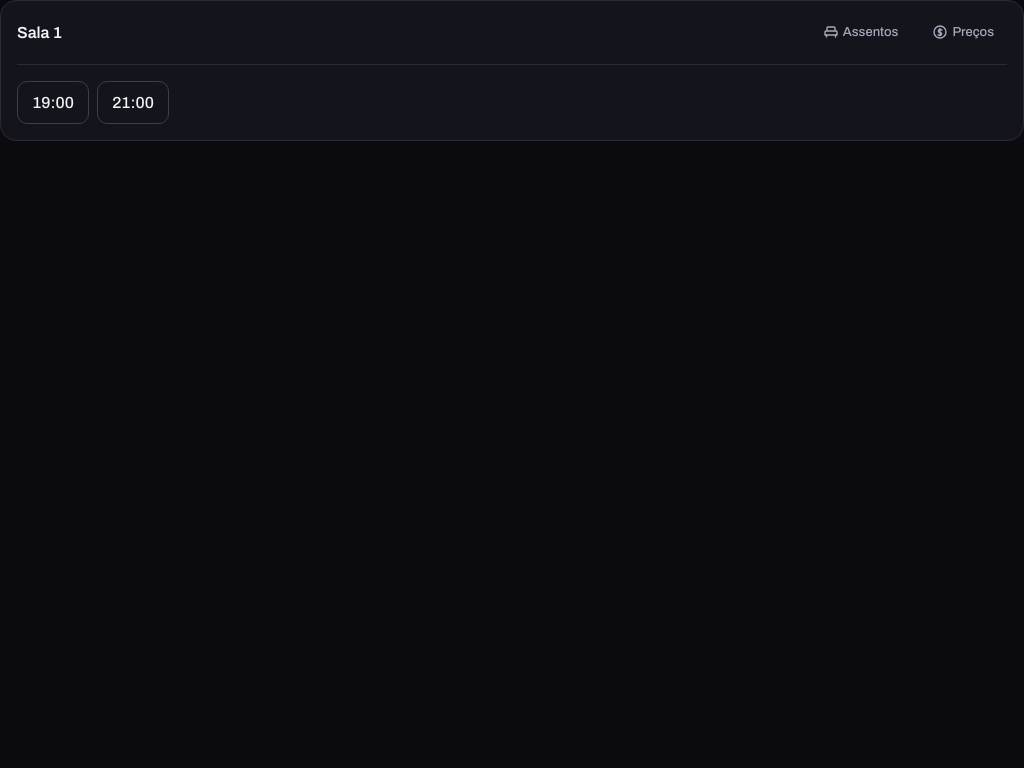
it: painel de assentos › A4 — sessão esgotada não oferece o caminho, e diz por quê
Click the button "Assentos".
click(861, 32)  # box [810, 17, 912, 48]
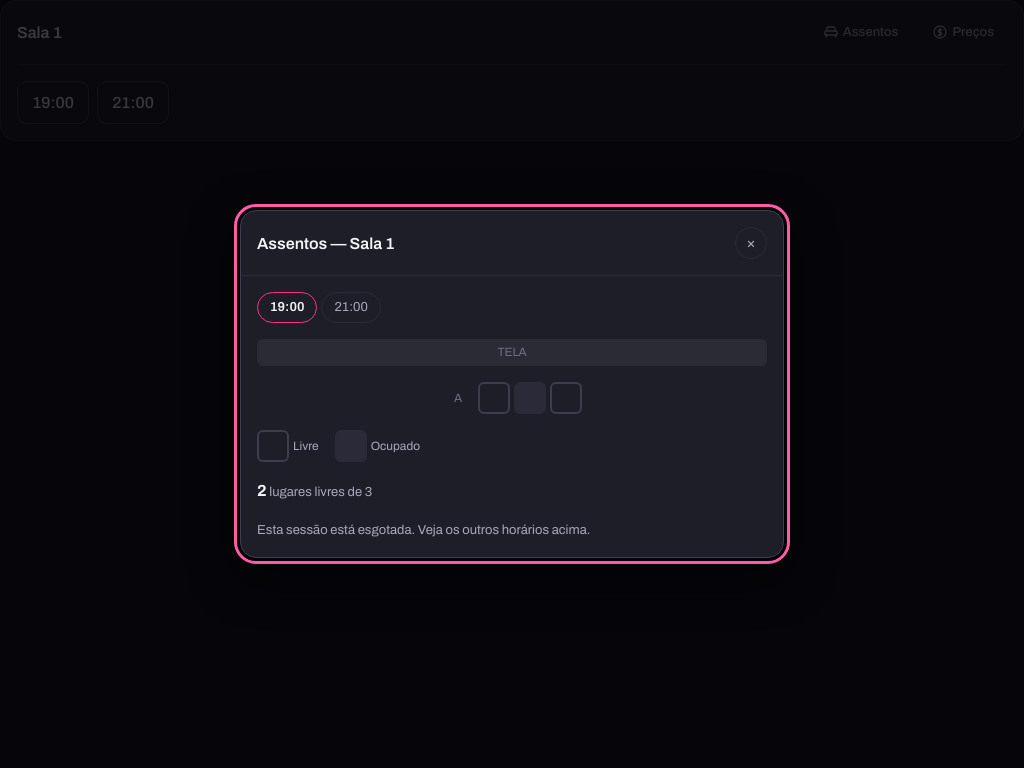
Now the text "Esta sessão está esgotada. Veja os outros horários acima." is shown, box [257, 523, 590, 537]
